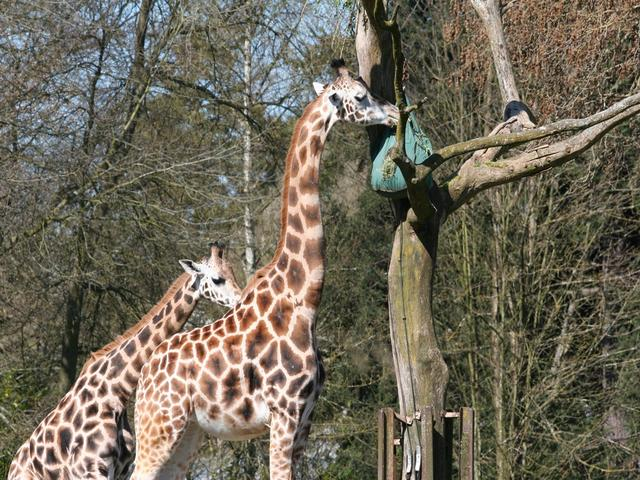giraffe: (143, 58, 419, 454), (10, 204, 248, 466)
